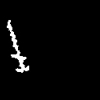double_crochet: (7, 20, 28, 71)
